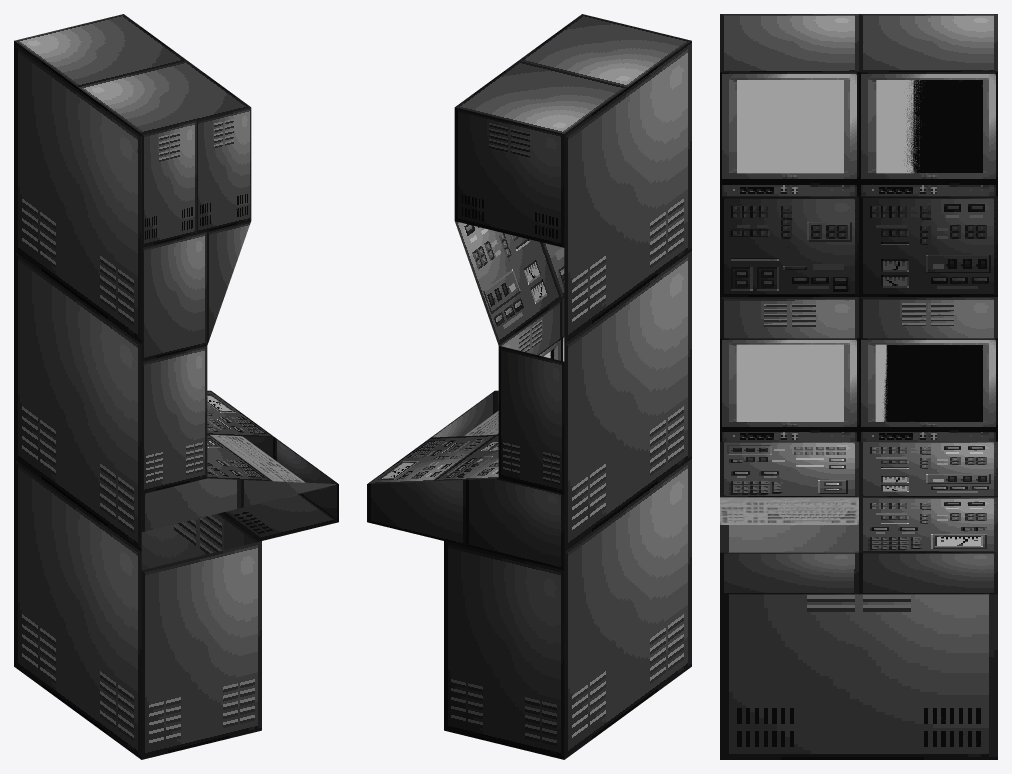
File: primary_122.glb
The picture shows the model from 3 angles, left to right: view 1: azimuth 30°, elevation 25°; view 2: azimuth 150°, elevation 25°; view 3: azimuth 270°, elevation 25°; orthographic projection. The views are drawn at different scales.
Parts seen in each view (by area): view 1: Object; view 2: Object; view 3: Object.
Boxes of the visible parts, x1,y1,x2,y2 form: Object: [14, 14, 338, 759]; Object: [367, 14, 691, 759]; Object: [720, 14, 997, 759].
Bounding box in the file's own units: 1.01 × 3.05 × 1.13.
27 materials, 27 textured.
